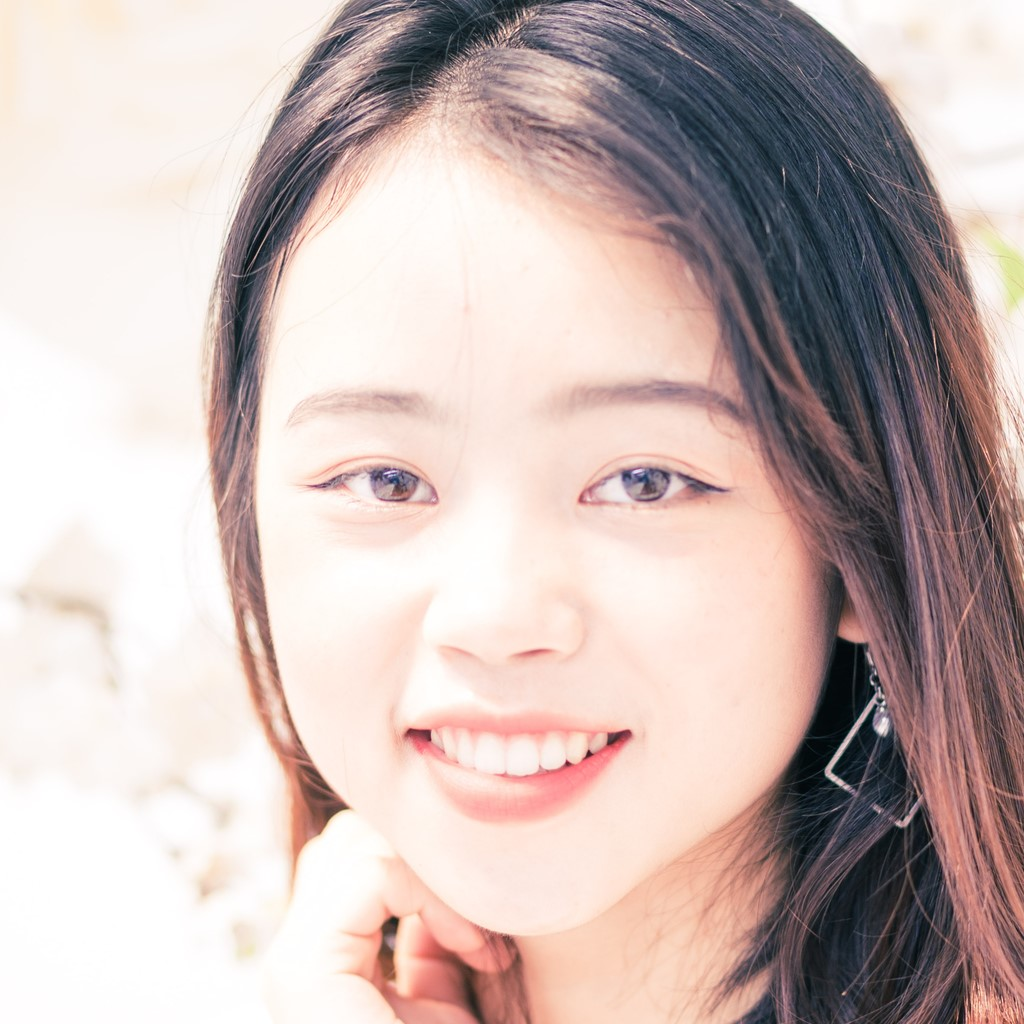sin_mascara: (269, 85, 821, 907)
